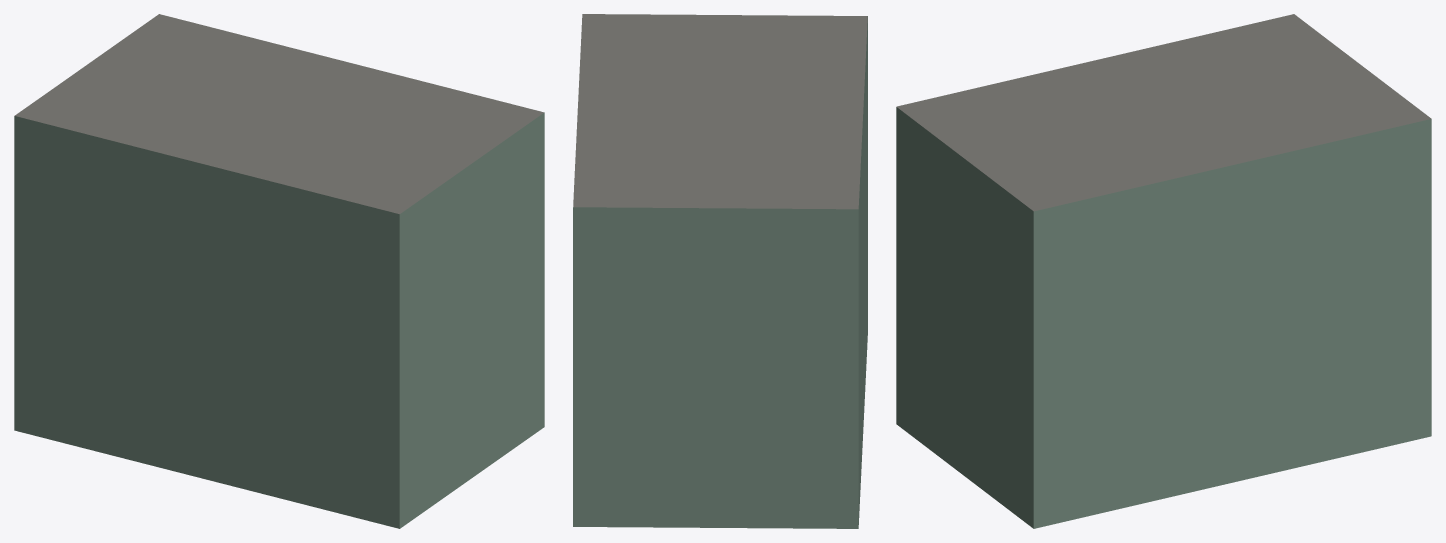
Rendered from nyc-1034264-0.glb.
3 renders of one model, left to right at view 1: azimuth 30°, elevation 25°; view 2: azimuth 150°, elevation 25°; view 3: azimuth 270°, elevation 25°, orthographic.
Visible parts, largest first — view 1: nyc-1034264-0; view 2: nyc-1034264-0; view 3: nyc-1034264-0.
Boxes of the visible parts, <box> form: nyc-1034264-0: <box>14,14,544,528</box>; nyc-1034264-0: <box>573,14,867,528</box>; nyc-1034264-0: <box>896,14,1431,528</box>.
Size of the model in its own units: 32.1 by 24.07 by 36.79.
